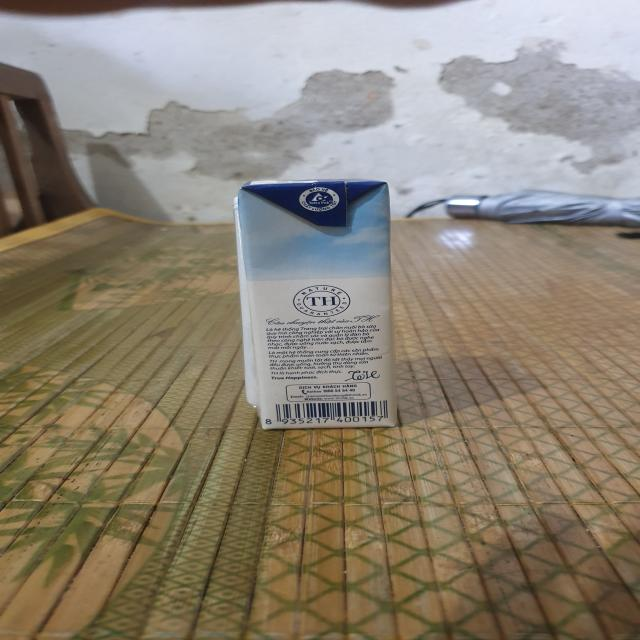TH: (231, 177, 407, 435)
